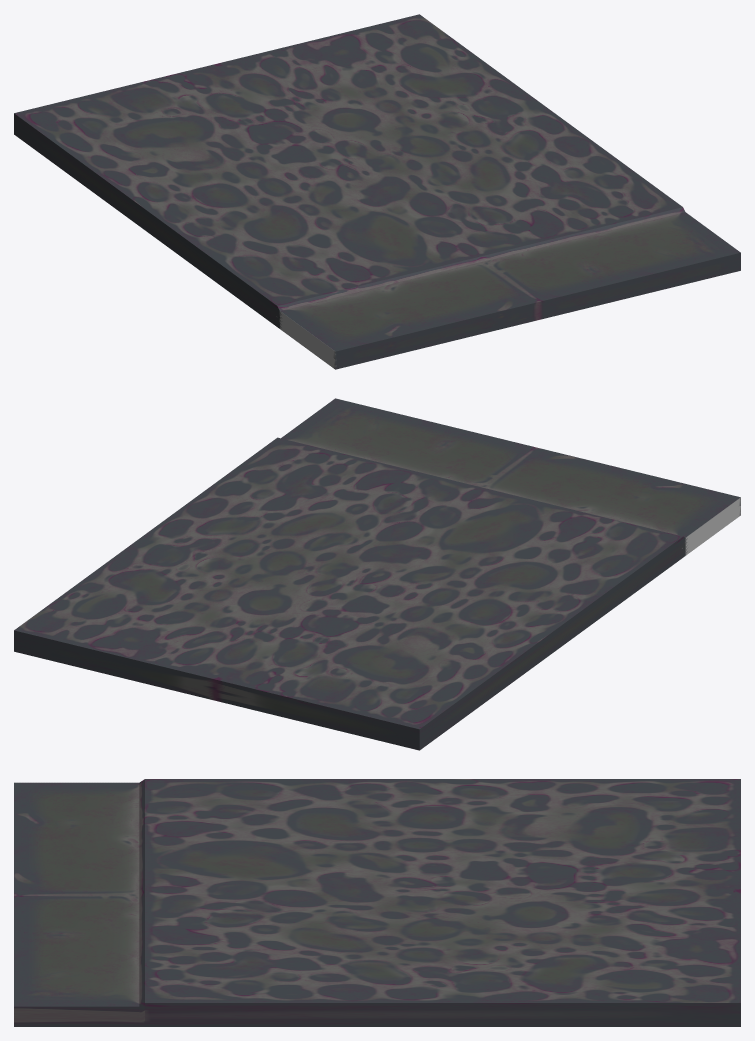
Rendered from Floor3.fbx.
3 views of the same model, one above another, from view 1: azimuth 30°, elevation 25°; view 2: azimuth 150°, elevation 25°; view 3: azimuth 270°, elevation 25° (orthographic). The views are drawn at different scales.
Parts seen in each view (by area): view 1: road, road.001; view 2: road, road.001; view 3: road, road.001.
Boxes of the visible parts, x1,y1,x2,y2 form: road: [14, 14, 682, 326]; road.001: [277, 207, 740, 369]; road: [14, 437, 682, 750]; road.001: [281, 398, 740, 557]; road: [145, 779, 740, 1026]; road.001: [14, 779, 144, 1026].
Bounding box in the file's own units: 400 × 20 × 549.
